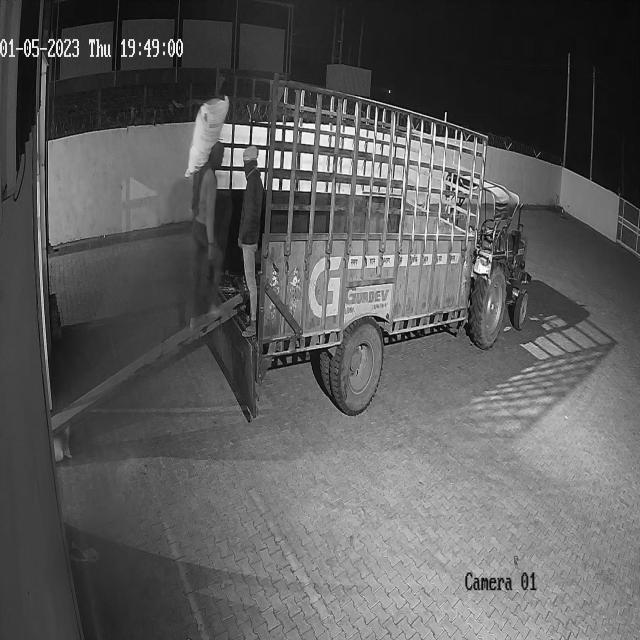sack: (184, 94, 229, 176)
